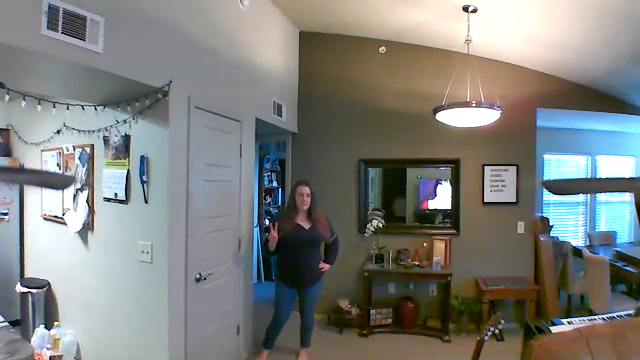peace: (264, 221, 285, 247)
